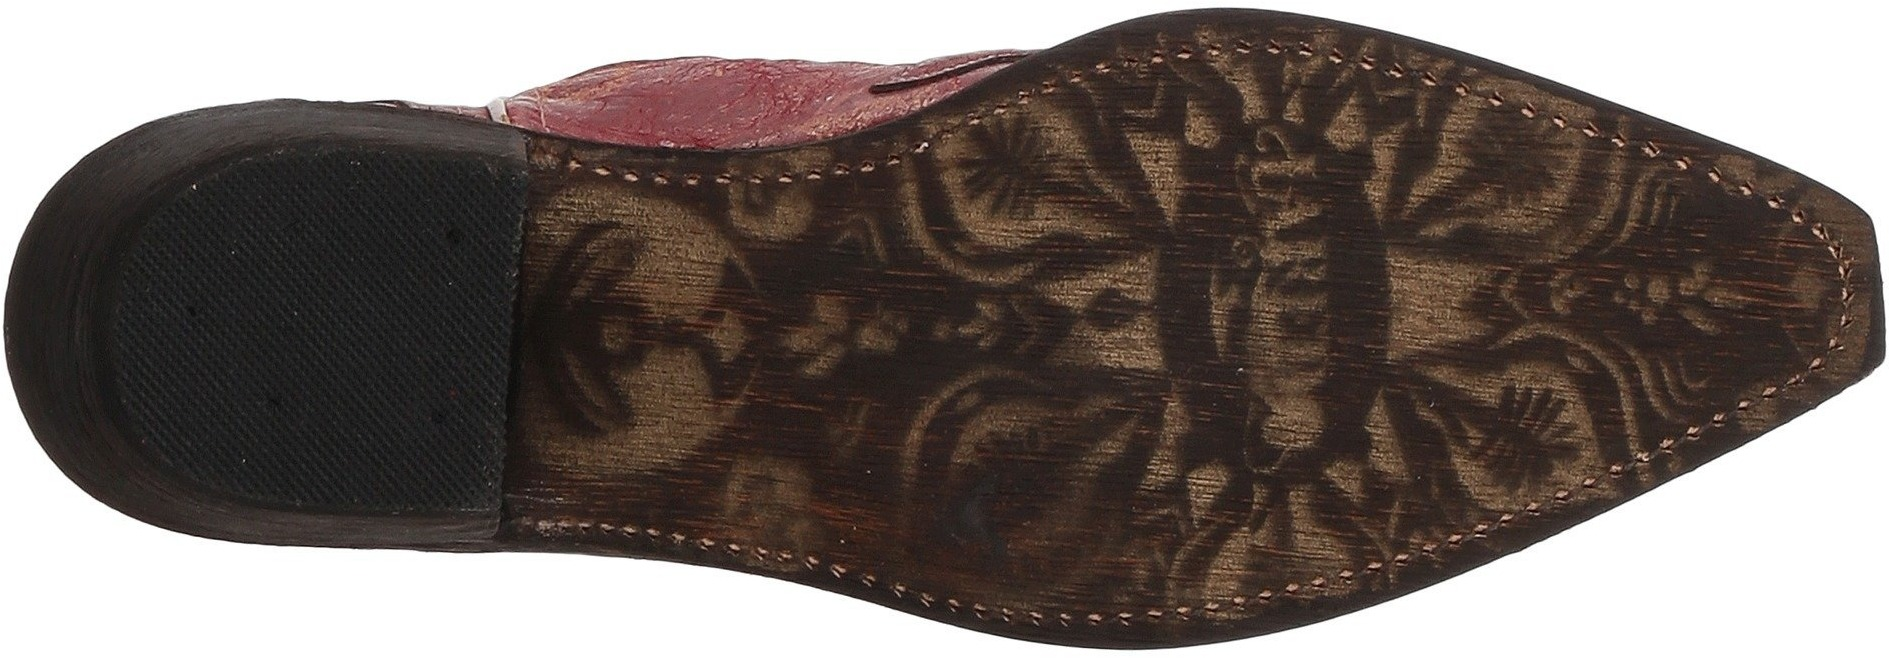exclude: (493, 92, 872, 611)
other: (151, 233, 364, 423), (369, 161, 511, 296), (370, 305, 504, 421)
